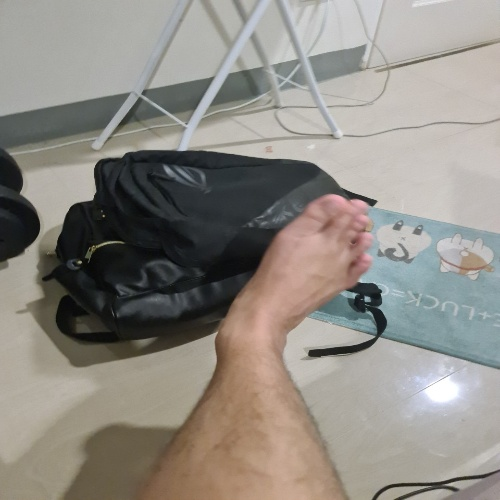Top_Foot: (214, 196, 369, 380)
